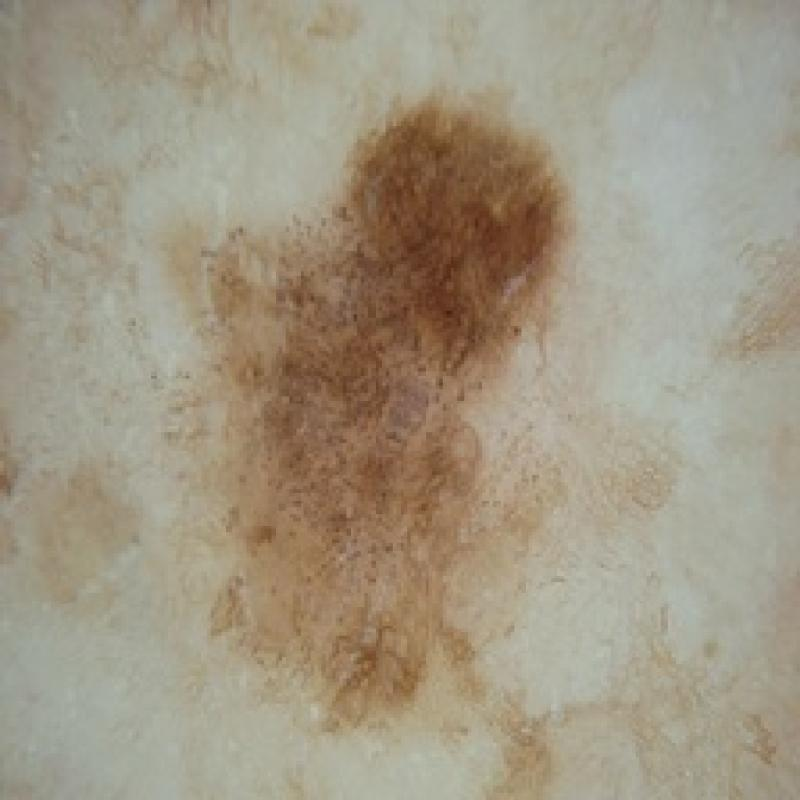malignant: (132, 95, 656, 776)
